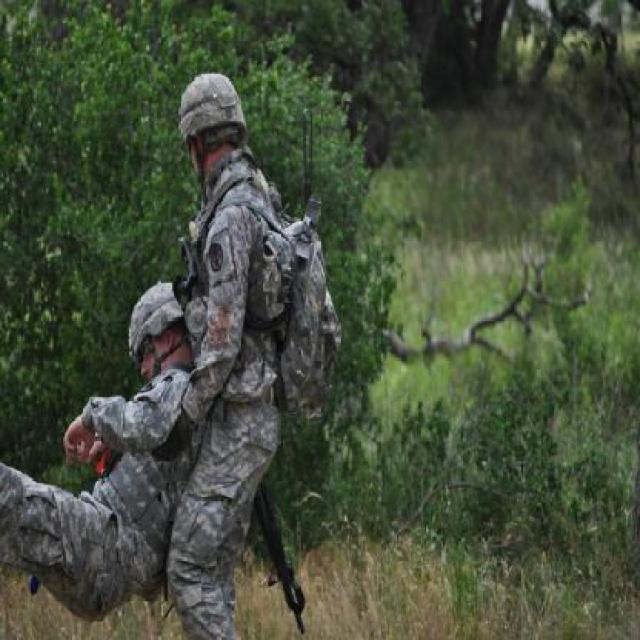backpack: (272, 192, 345, 425)
